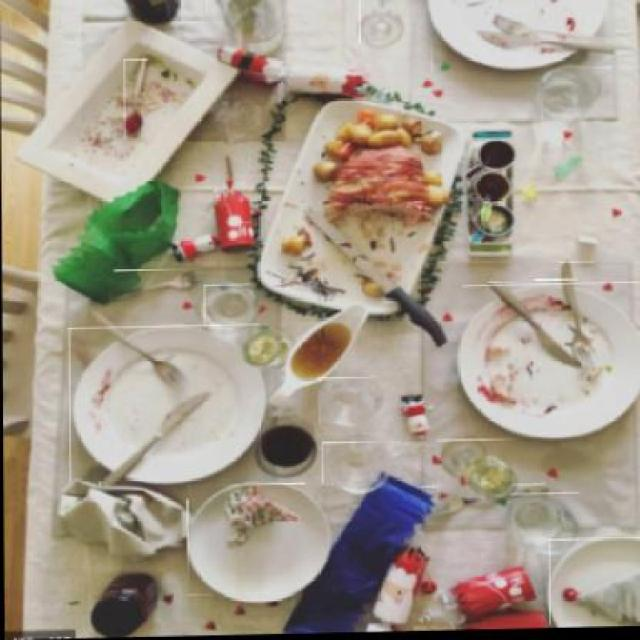Glass: (206, 0, 287, 59), (437, 440, 514, 496), (510, 496, 580, 554), (322, 441, 391, 491), (318, 378, 384, 427), (540, 68, 596, 124), (358, 0, 412, 46), (203, 284, 251, 334), (242, 329, 289, 364)
Plate: (67, 325, 260, 483), (462, 283, 638, 443), (188, 484, 336, 598), (431, 0, 614, 76), (548, 538, 638, 630)
